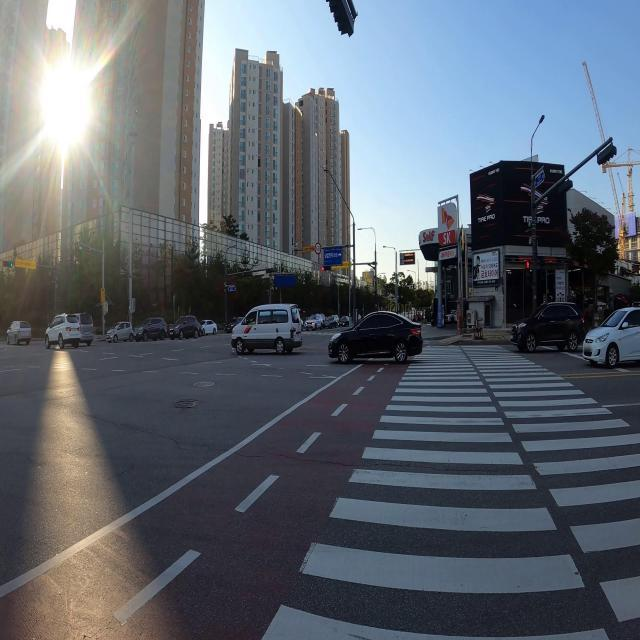crosswalk: (261, 342, 640, 640), (217, 331, 343, 337)
